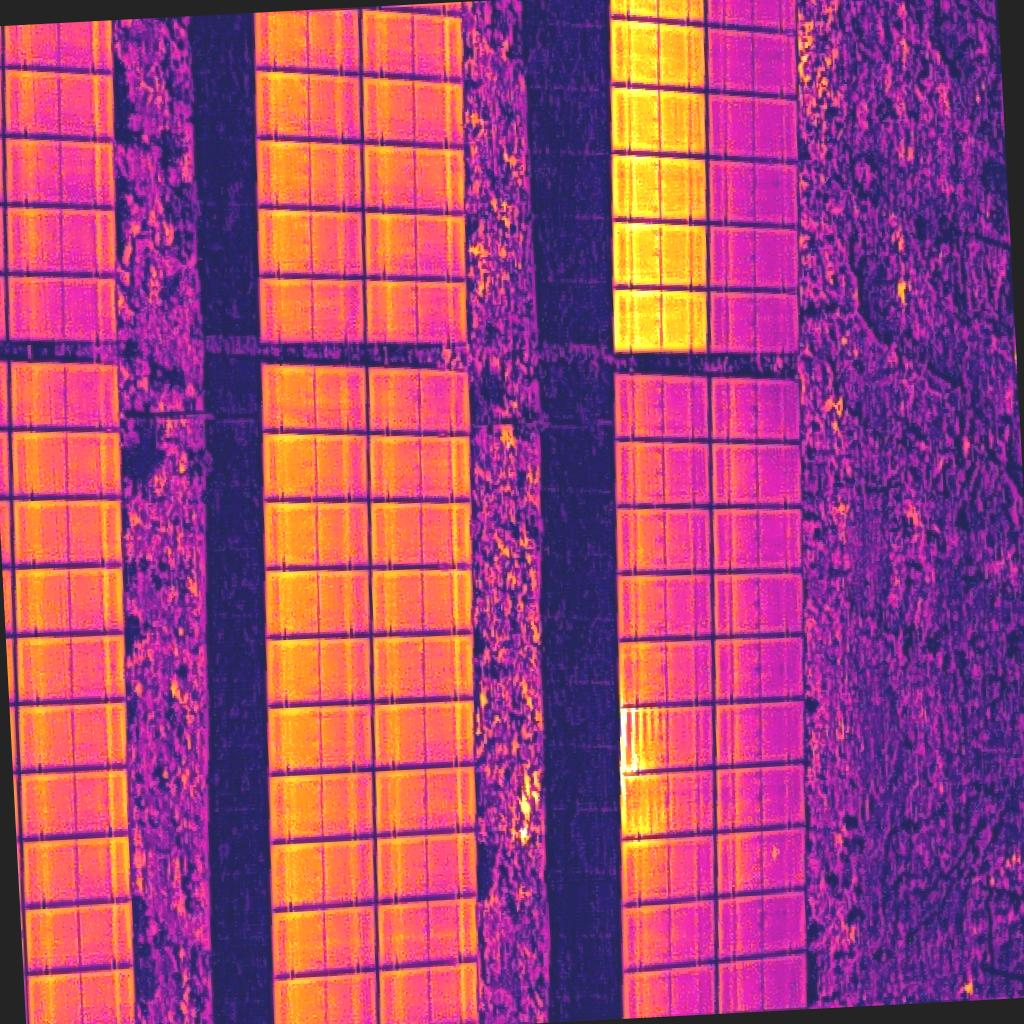panel: (8, 279, 113, 341), (622, 707, 713, 775), (623, 838, 714, 905)
